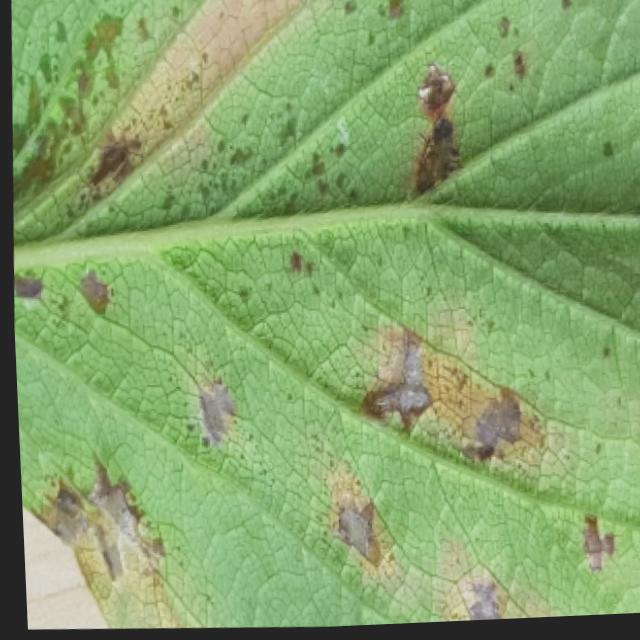Angular Leafspot: (11, 0, 640, 629)
